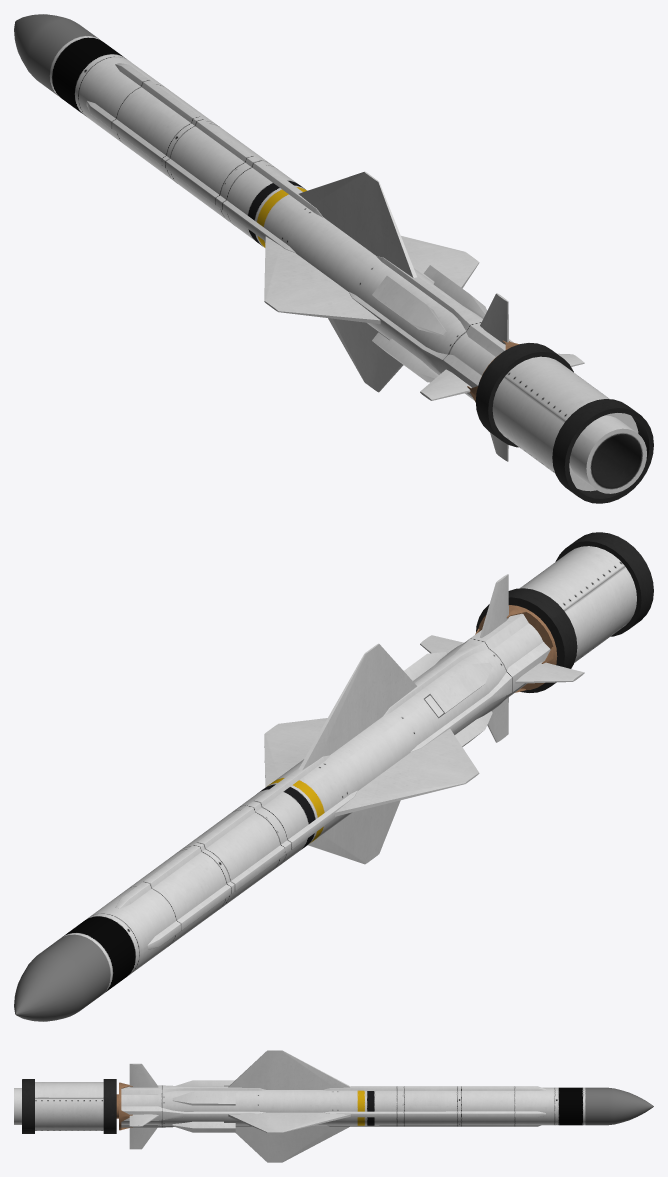
Rendered from Exocet_MM40.glb.
3 renders of one model, top to bottom at view 1: azimuth 30°, elevation 25°; view 2: azimuth 150°, elevation 25°; view 3: azimuth 270°, elevation 25°, orthographic. The views are drawn at different scales.
Visible parts, largest first — view 1: Cylinder, Cylinder.005, Cylinder.002, Cylinder.006, Cylinder.004, Cylinder.003; view 2: Cylinder, Cylinder.002, Cylinder.005, Cylinder.006, Cylinder.003, Cylinder.004; view 3: Cylinder, Cylinder.002, Cylinder.005, Cylinder.006, Cylinder.004, Cylinder.003.
Boxes of the visible parts, left/top/right/bottom form: Cylinder: left=14, top=14, right=495, bottom=400; Cylinder.005: left=467, top=340, right=653, bottom=503; Cylinder.002: left=264, top=171, right=479, bottom=392; Cylinder.006: left=86, top=63, right=513, bottom=397; Cylinder.004: left=372, top=265, right=487, bottom=382; Cylinder.003: left=420, top=293, right=584, bottom=461; Cylinder: left=14, top=623, right=542, bottom=1021; Cylinder.002: left=264, top=643, right=479, bottom=864; Cylinder.005: left=475, top=532, right=653, bottom=692; Cylinder.006: left=115, top=613, right=550, bottom=949; Cylinder.003: left=420, top=574, right=584, bottom=742; Cylinder.004: left=404, top=652, right=492, bottom=746; Cylinder: left=121, top=1087, right=653, bottom=1125; Cylinder.002: left=228, top=1050, right=350, bottom=1162; Cylinder.005: left=14, top=1079, right=132, bottom=1133; Cylinder.006: left=121, top=1085, right=545, bottom=1127; Cylinder.004: left=172, top=1080, right=235, bottom=1132; Cylinder.003: left=129, top=1063, right=158, bottom=1149.
Size of the model in its own units: 4.72 by 4.72 by 24.46.
1 material, 1 textured.
